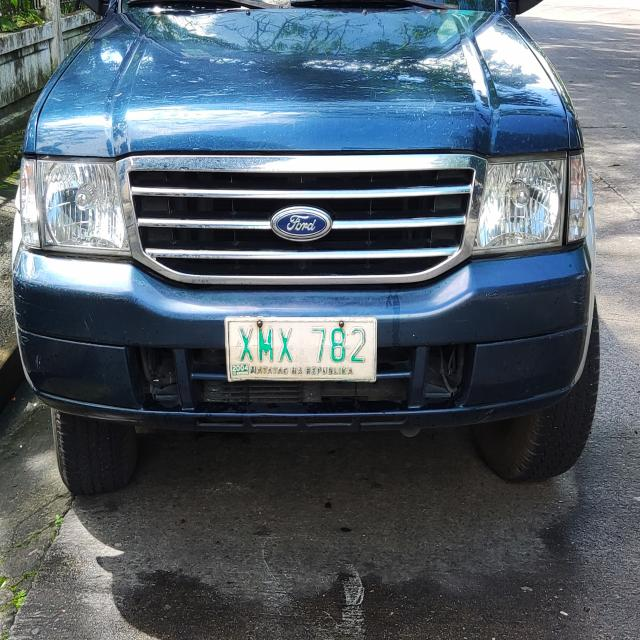plate: (222, 314, 379, 384)
